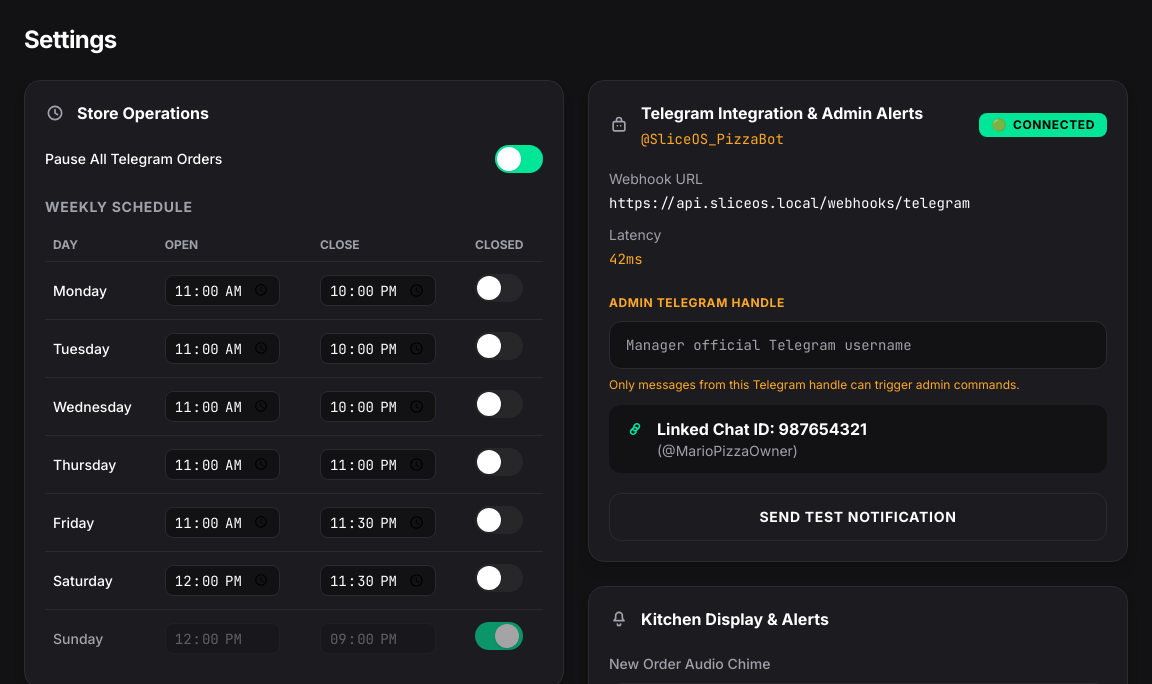
SettingsView › keeps webhook metrics, connection badge, and test notification controls
Expected: the element with test id "telegram-integration-card" is shown, top-left (588, 80), bottom-right (1128, 562)
Expected: the element with test id "bot-connection-badge" shows "Connected", top-left (1013, 117), bottom-right (1095, 132)
Click the button with test id "send-test-notification": (858, 517) top-left (609, 493), bottom-right (1107, 541)
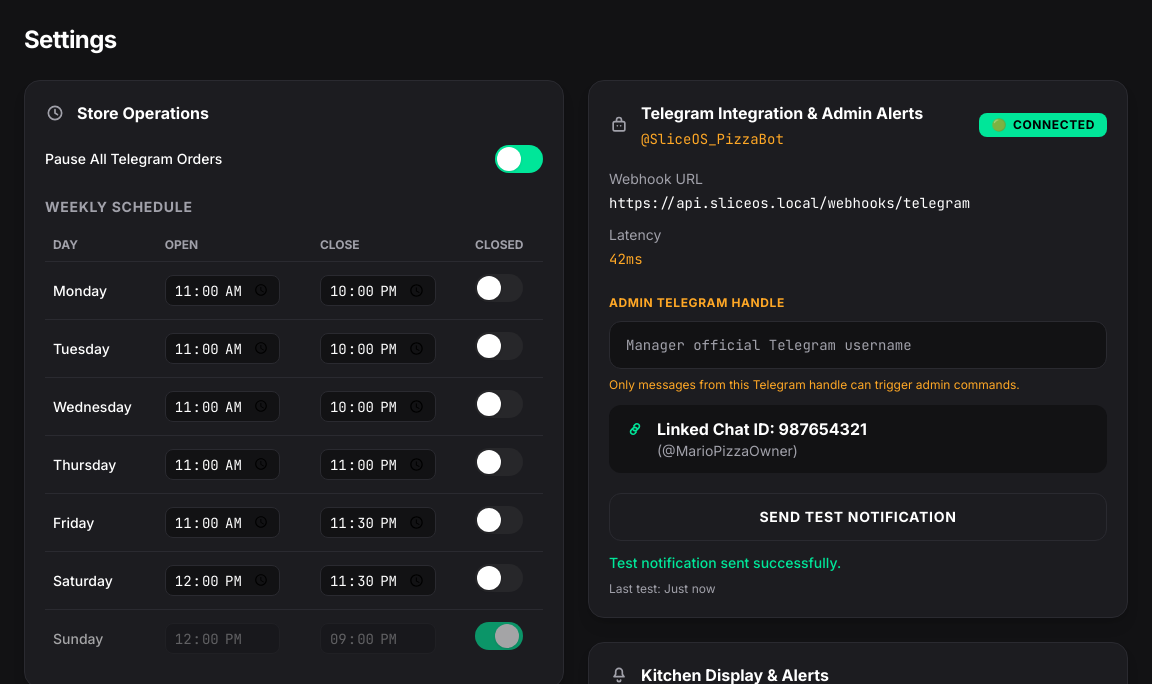
Expected: the text with test id "test-notification-success" reads "Test notification sent successfully.", top-left (609, 554), bottom-right (841, 571)
